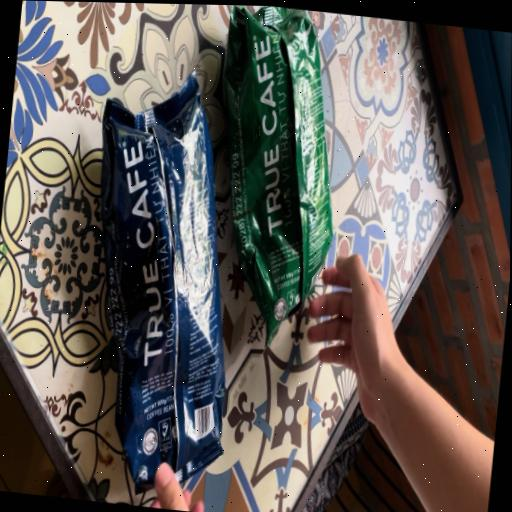cafe_hat: (99, 72, 224, 491)
cafe_xay: (223, 6, 332, 342)
